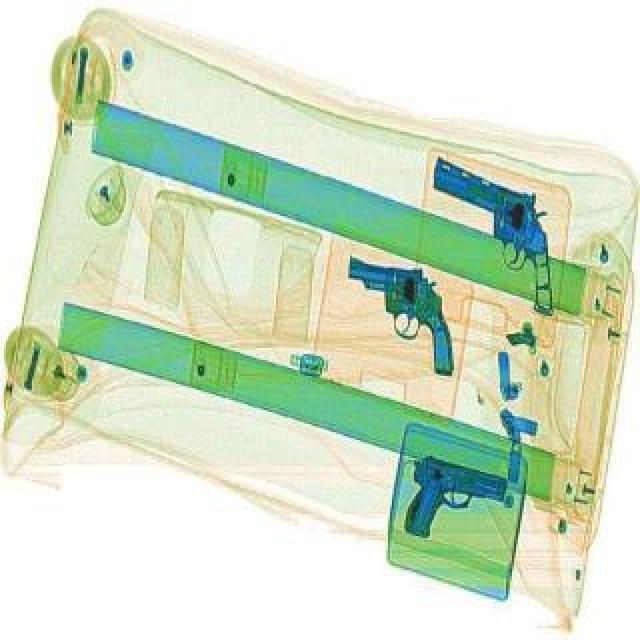gun: (392, 154, 596, 316), (328, 254, 474, 372), (394, 448, 512, 552)
